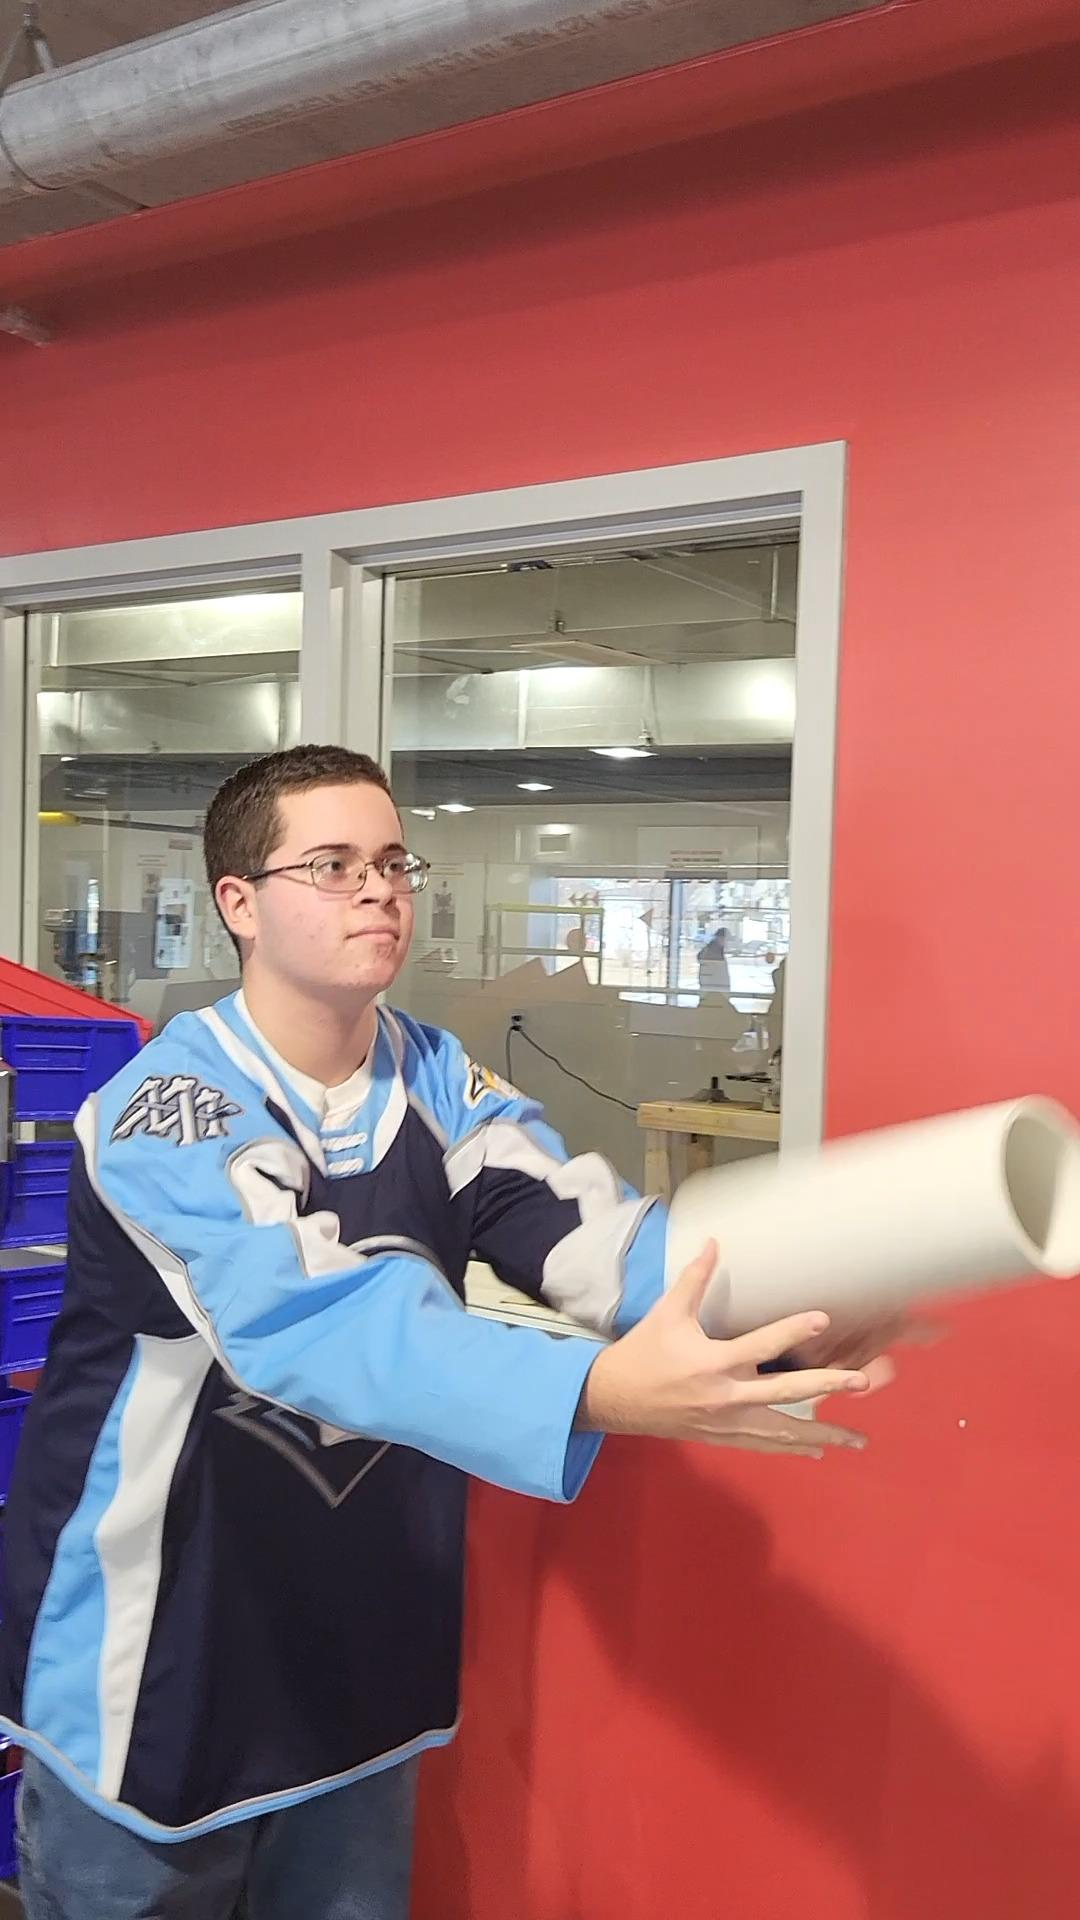coral: (661, 1091, 1080, 1350)
